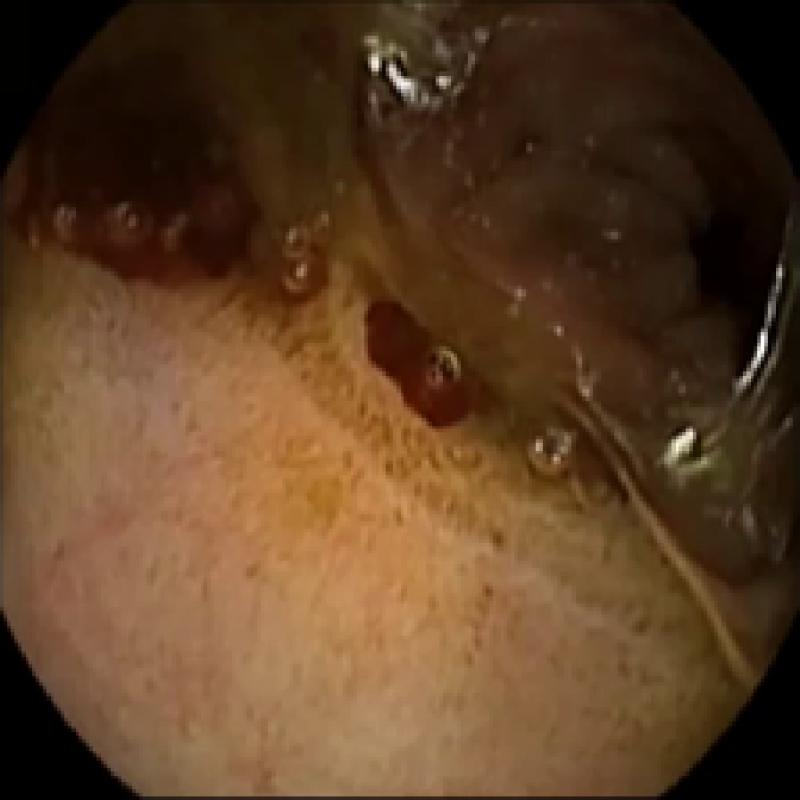bleeding: (18, 68, 261, 296), (357, 298, 467, 423)
